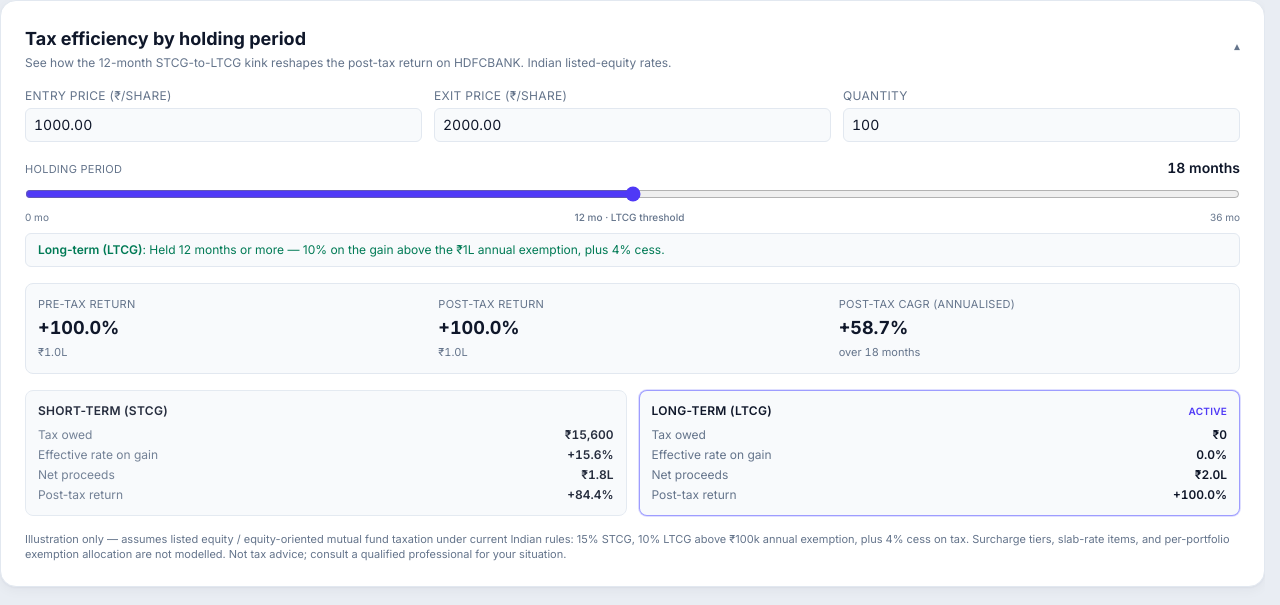
it: TaxEfficiencyCalculator — slider interactivity › annualised post-tax is hidden when months = 0
Set the slider with test id "tax-months-slider" to "0". click: (33, 194)
box: 25,186 -> 1240,202
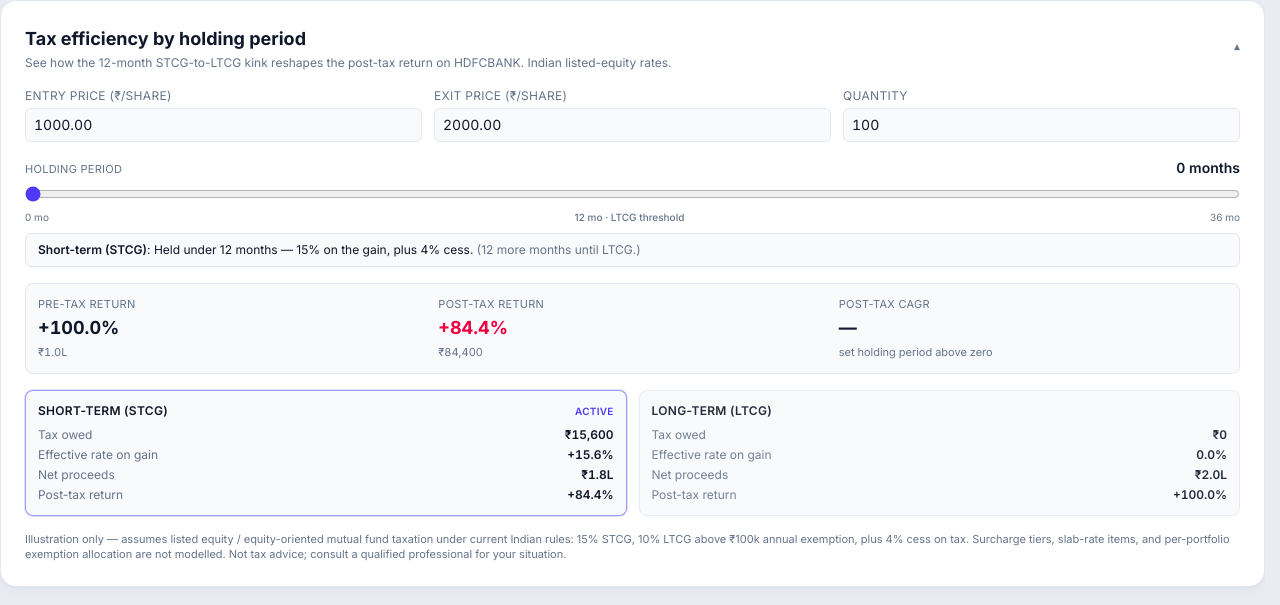
Result: the text with test id "tax-annualised-post" reads "—" at 839,317 -> 857,338
